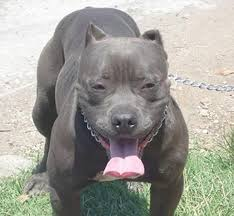Perro Pitbull: (31, 7, 200, 210)
